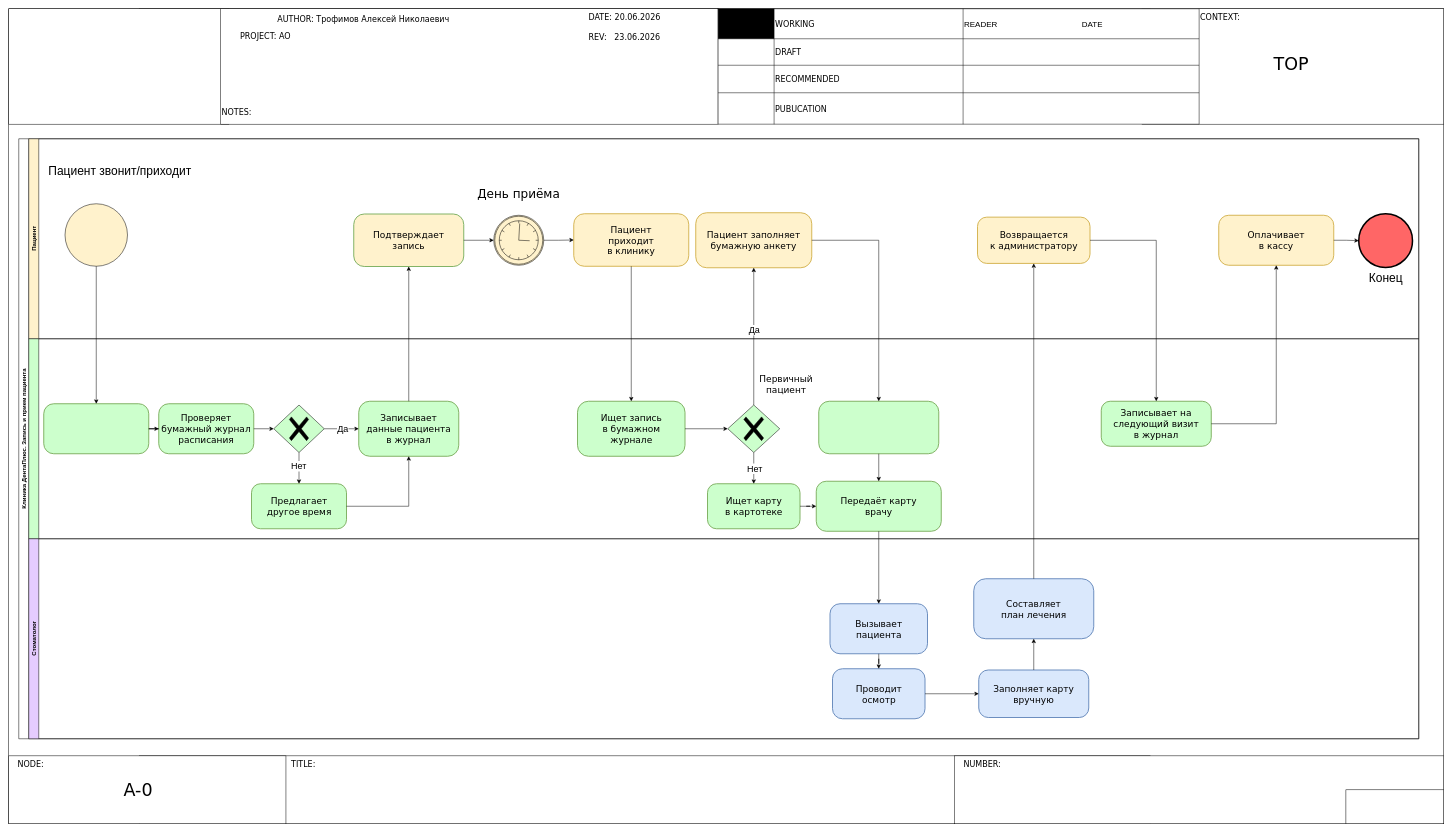
Some shapes in this 1453 by 833 pixel diagram are drawn without their labels. The box of each missing label's shape, as (x1, y1, x2, y2) in pixels:
USED AT:: (8, 8, 229, 124)
Администратор: (28, 338, 1419, 539)
Заводит новую медицинскую карту: (818, 400, 939, 454)
Принимает звонок / обращение: (43, 403, 149, 454)
